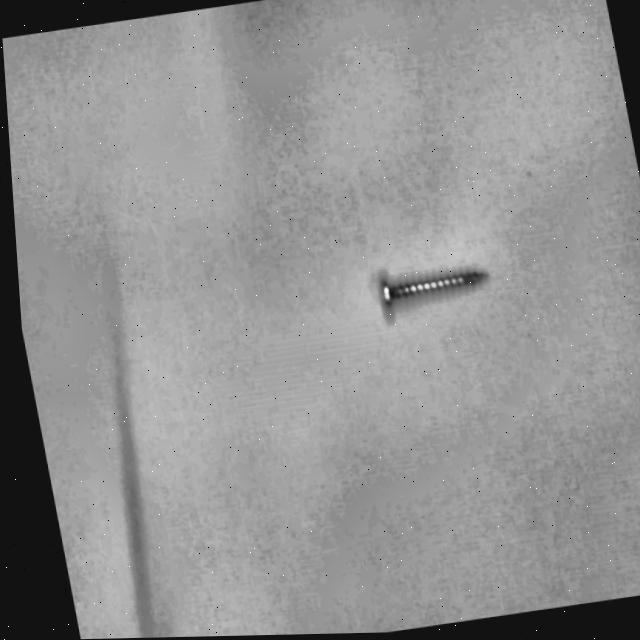Sheet metal screw: (371, 265, 486, 308)
